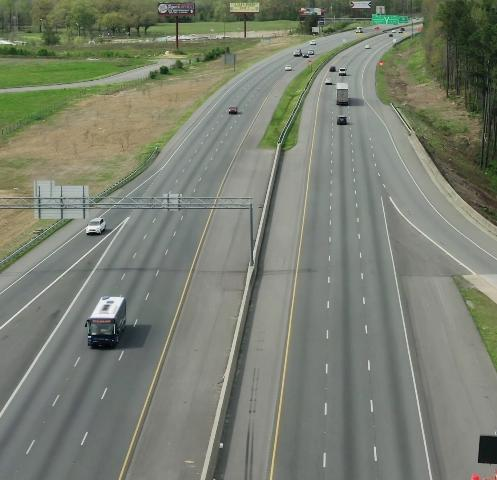bus: (81, 292, 130, 348)
car: (85, 213, 106, 237), (337, 115, 348, 125), (228, 106, 238, 114), (325, 78, 333, 85)
truck: (336, 82, 349, 105)
